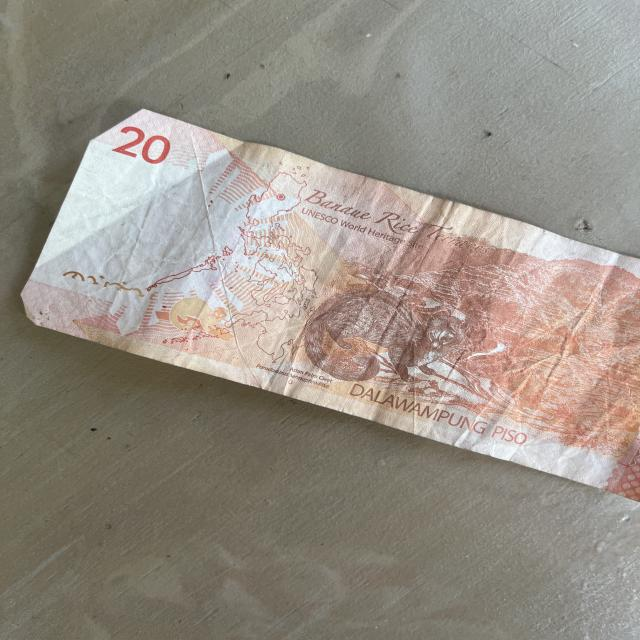20_civet: (307, 281, 482, 385)
20_civet_watermark: (166, 294, 236, 334)
